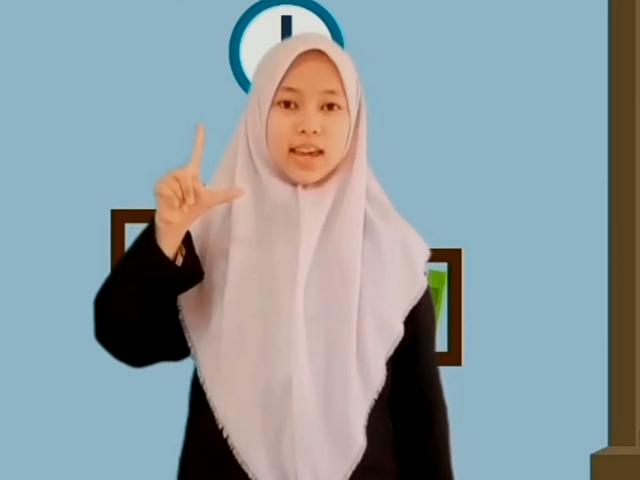L: (154, 130, 248, 255)
